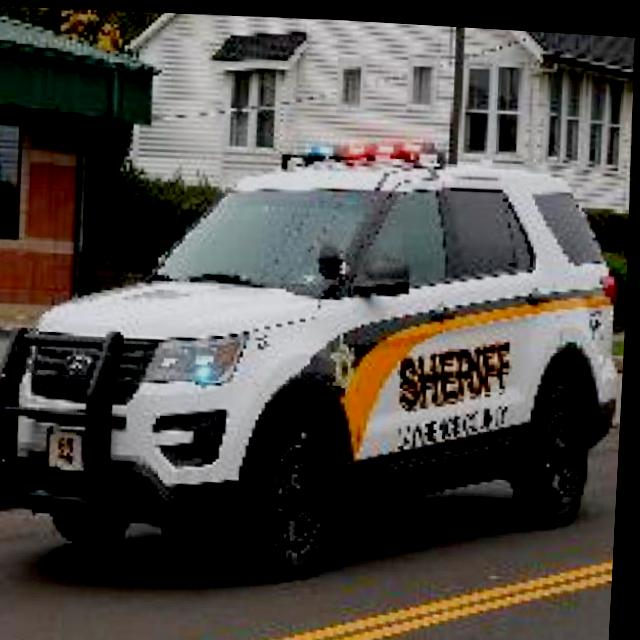emergency: (0, 105, 636, 595)
